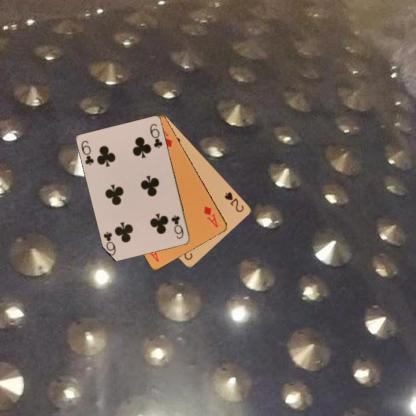2s: (222, 188, 245, 214)
6c: (78, 138, 96, 166), (169, 213, 185, 240)
Ad: (201, 204, 220, 228)
